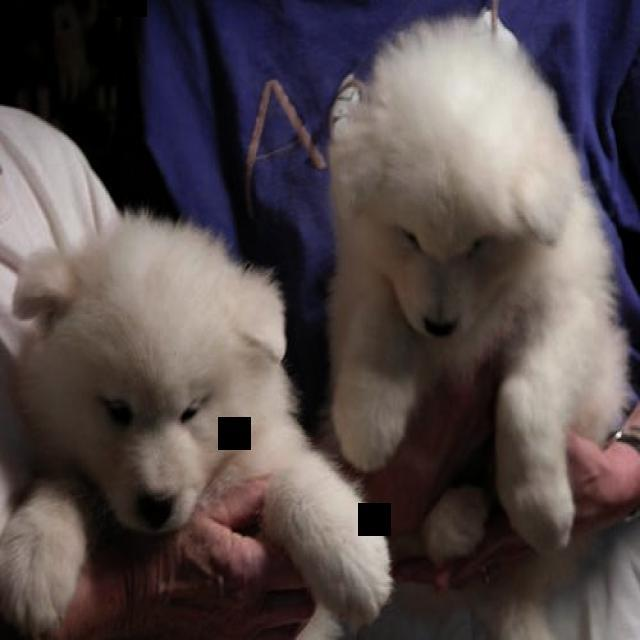puppy-dog: (323, 5, 640, 564), (1, 200, 399, 640)
